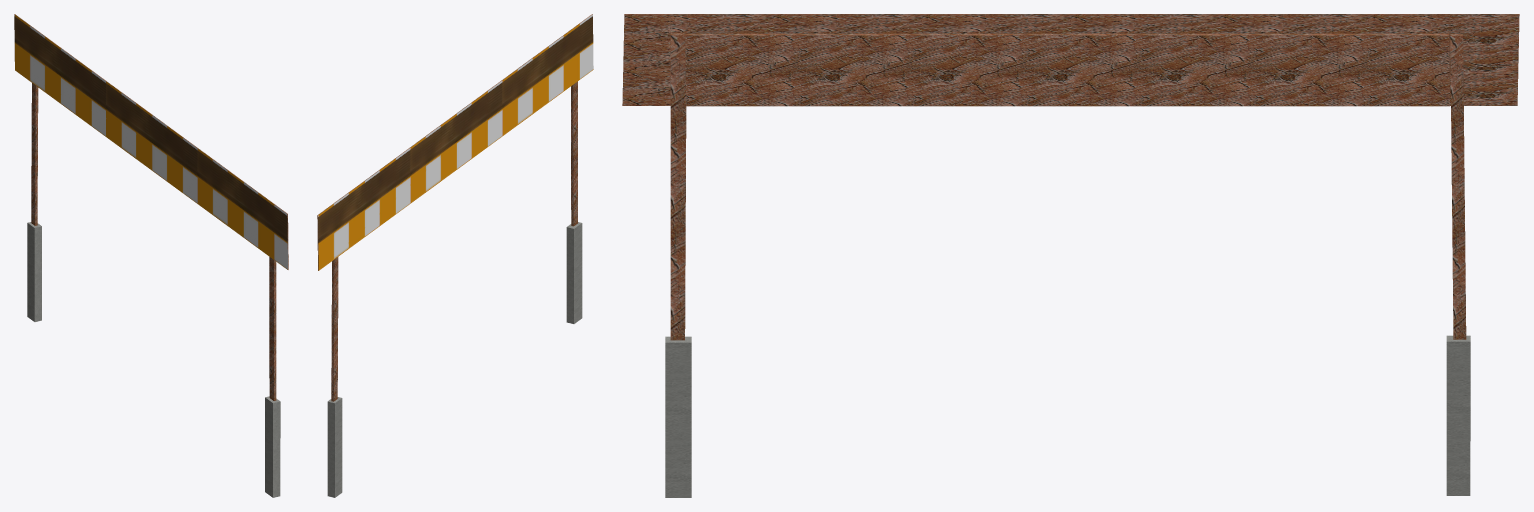
Rendered from checkpoint.glb.
3 views of the same model, side by side, from view 1: azimuth 30°, elevation 25°; view 2: azimuth 150°, elevation 25°; view 3: azimuth 270°, elevation 25° (orthographic). The views are drawn at different scales.
Parts seen in each view (by area): view 1: checkpoint; view 2: checkpoint; view 3: checkpoint.
Boxes of the visible parts, left/top/right/bottom form: checkpoint: left=14, top=14, right=288, bottom=497; checkpoint: left=317, top=14, right=593, bottom=497; checkpoint: left=622, top=14, right=1519, bottom=497.
Size of the model in its own units: 0.75 by 28.38 by 48.11.
3 materials, 3 textured.
